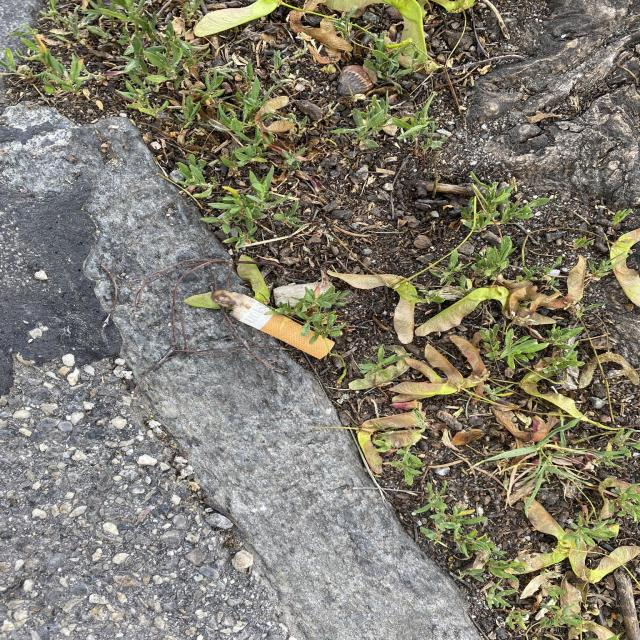other waste: (209, 286, 335, 360)
